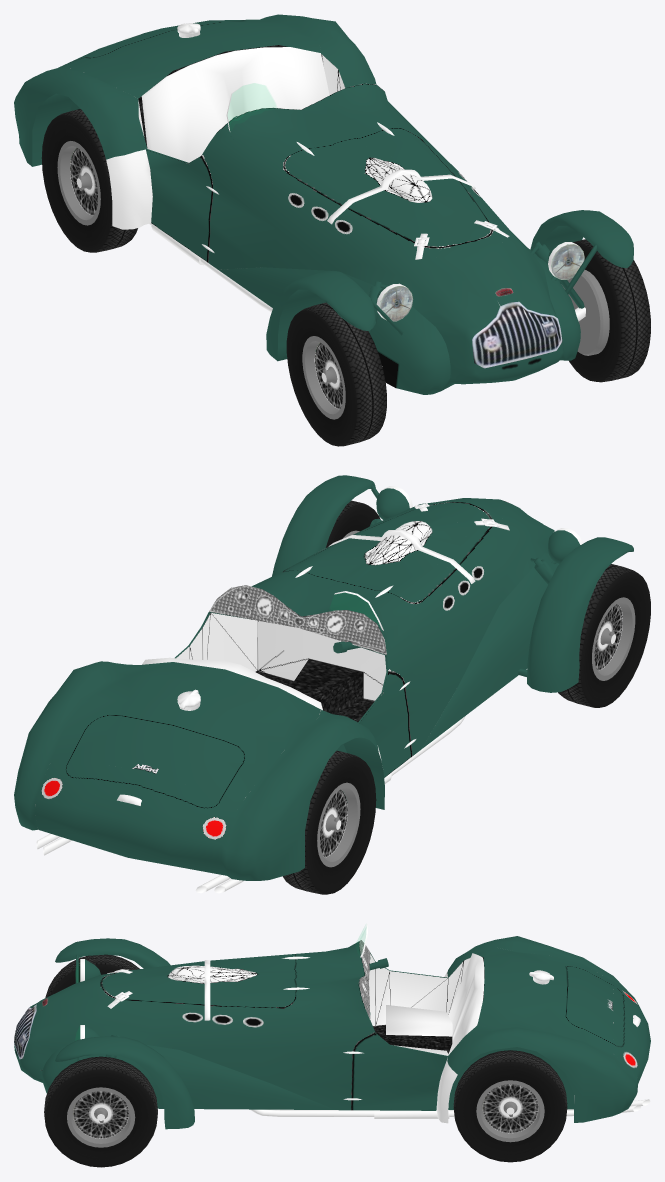
3 renders of one model, top to bottom at view 1: azimuth 30°, elevation 25°; view 2: azimuth 150°, elevation 25°; view 3: azimuth 270°, elevation 25°, orthographic. The views are drawn at different scales.
Visible parts, largest first — view 1: BODY, INTERIOR, WHEEL_1, WHEEL_2, WHEEL_0; view 2: BODY, WHEEL_2, WHEEL_1, INTERIOR, WHEEL_0; view 3: BODY, WHEEL_3, WHEEL_0, INTERIOR, WHEEL_1.
Boxes of the visible parts, x1,y1,x2,y2 form: BODY: (14, 14, 633, 394); INTERIOR: (70, 23, 596, 366); WHEEL_1: (286, 302, 386, 446); WHEEL_2: (41, 109, 137, 252); WHEEL_0: (561, 239, 650, 382); BODY: (14, 475, 633, 880); WHEEL_2: (283, 750, 376, 894); WHEEL_1: (558, 564, 650, 707); INTERIOR: (36, 484, 556, 893); WHEEL_0: (326, 500, 380, 547); BODY: (14, 936, 650, 1129); WHEEL_3: (453, 1050, 567, 1162); WHEEL_0: (44, 1056, 157, 1167); INTERIOR: (75, 924, 650, 1118); WHEEL_1: (45, 954, 139, 997).
Bounding box in the file's own units: 1.7 × 1.14 × 3.95.
Materials: 34 (34 with a texture image).
